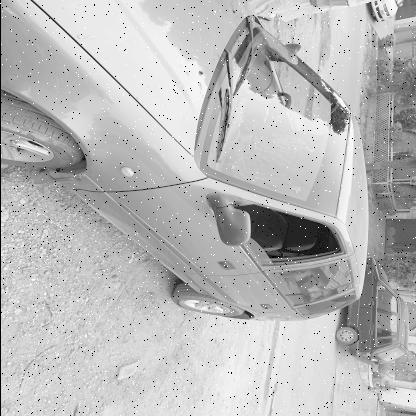no_seatbelt: (245, 134, 317, 170)
